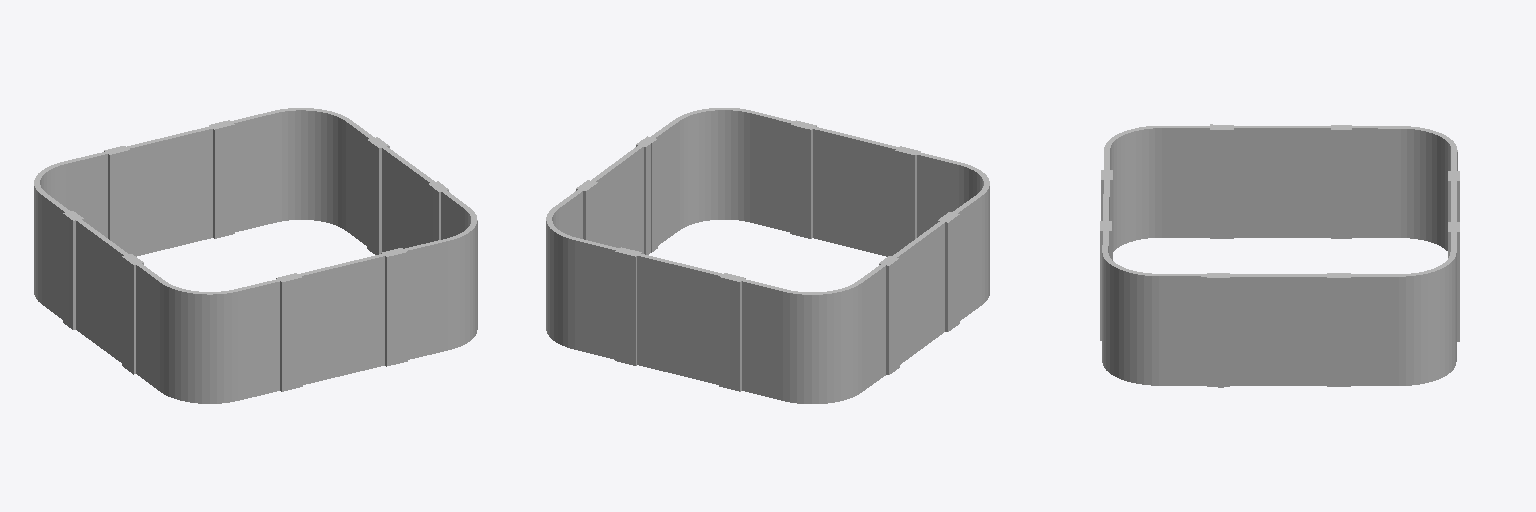
The model's file is tancaParets.obj.
The picture shows the model from 3 angles: view 1: azimuth 30°, elevation 25°; view 2: azimuth 150°, elevation 25°; view 3: azimuth 270°, elevation 25°; orthographic projection.
Parts seen in each view (by area): view 1: paret2.002_paret2.003; view 2: paret2.002_paret2.003; view 3: paret2.002_paret2.003.
Part boxes in pixels (x1,y1,x2,y2): paret2.002_paret2.003: (34, 108, 477, 403); paret2.002_paret2.003: (546, 108, 989, 403); paret2.002_paret2.003: (1100, 124, 1459, 387).
Bounding box in the file's own units: 7.21 × 2.4 × 7.15.